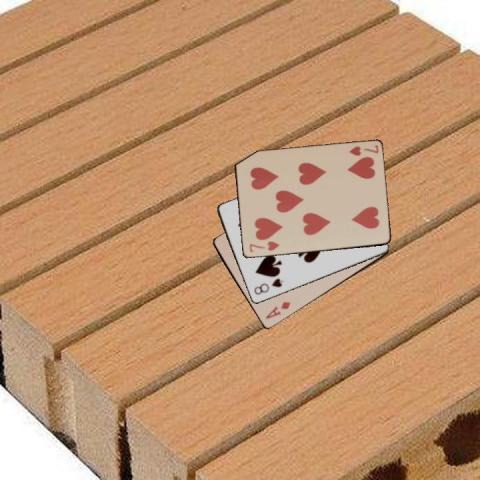7h: (246, 238, 281, 254), (346, 142, 379, 157)
8s: (250, 275, 284, 297)
Ad: (262, 298, 292, 320)
